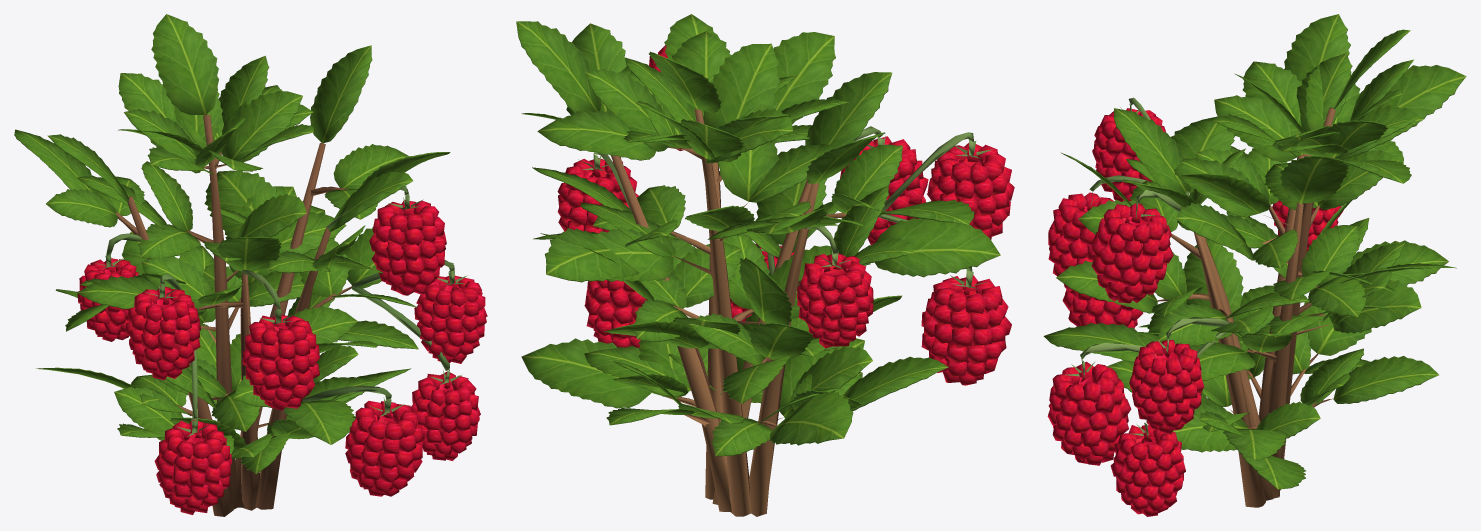
The model's file is NP_Raspberry_Ready.fbx.
The picture shows the model from 3 angles, left to right: view 1: azimuth 30°, elevation 25°; view 2: azimuth 150°, elevation 25°; view 3: azimuth 270°, elevation 25°; orthographic projection. The views are drawn at different scales.
Parts seen in each view (by area): view 1: NP_Raspberry_Ready; view 2: NP_Raspberry_Ready; view 3: NP_Raspberry_Ready.
Part boxes in pixels (bbox=[...]): NP_Raspberry_Ready: bbox=[14, 14, 487, 516]; NP_Raspberry_Ready: bbox=[516, 14, 1014, 516]; NP_Raspberry_Ready: bbox=[1043, 14, 1466, 516].
Bounding box in the file's own units: 80.41 × 85.75 × 71.11.
